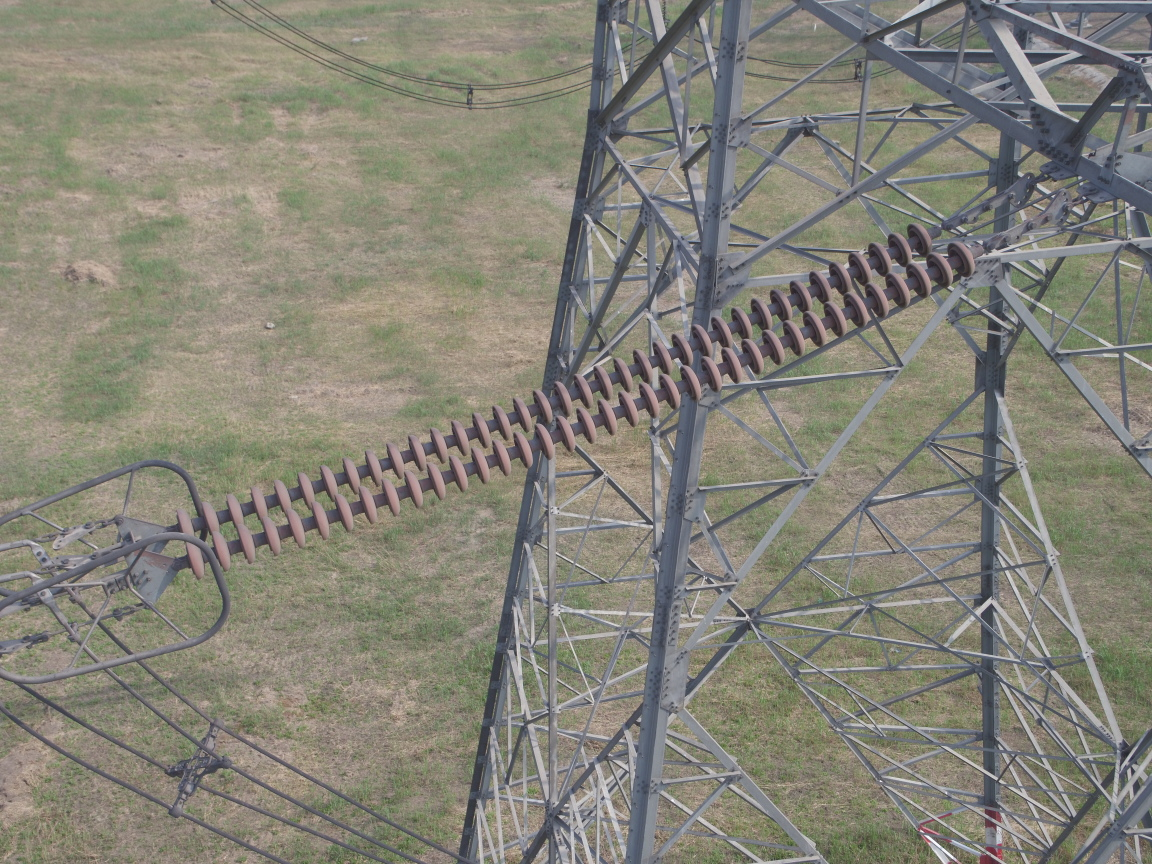insulator: (169, 217, 981, 584)
